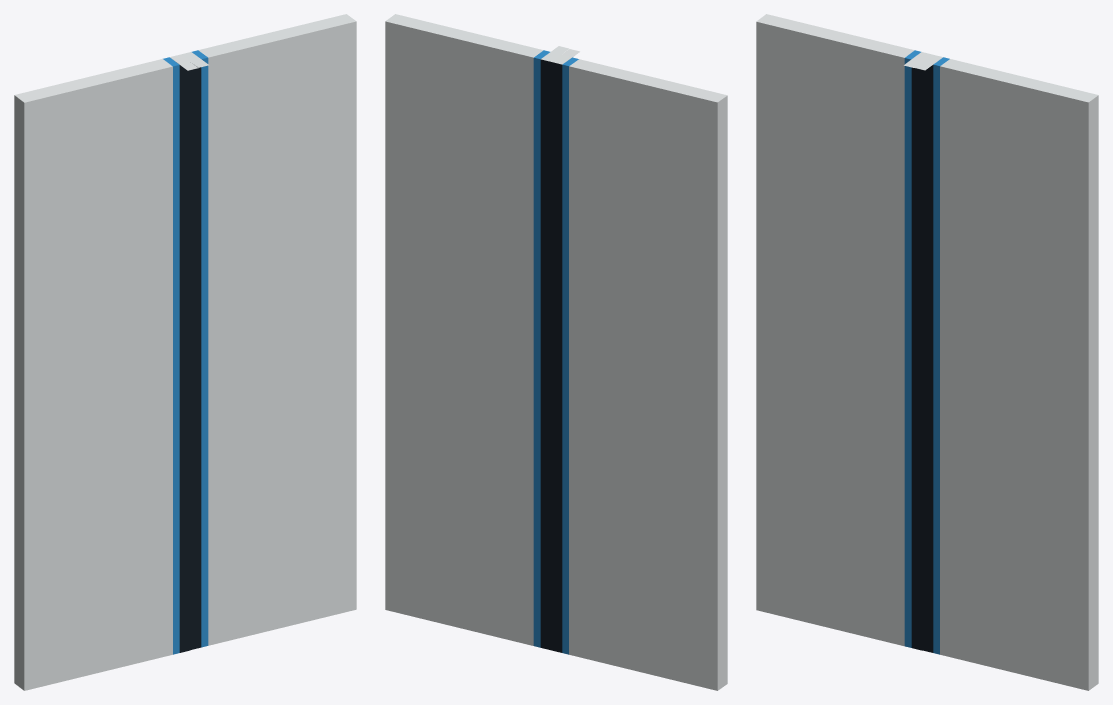
Rendered from Doors_001.fbx.
The picture shows the model from 3 angles, left to right: view 1: azimuth 30°, elevation 25°; view 2: azimuth 150°, elevation 25°; view 3: azimuth 330°, elevation 25°; orthographic projection.
Parts seen in each view (by area): view 1: Door_right_001, Door_left_001; view 2: Door_right_001, Door_left_001; view 3: Door_left_001, Door_right_001.
Part boxes in pixels (x1=…): Door_right_001: x1=14, y1=54, x2=198, y2=690; Door_left_001: x1=181, y1=14, x2=356, y2=649; Door_right_001: x1=551, y1=49, x2=727, y2=690; Door_left_001: x1=385, y1=14, x2=568, y2=650; Door_left_001: x1=914, y1=54, x2=1098, y2=690; Door_right_001: x1=756, y1=14, x2=932, y2=650.
Size of the model in its own units: 213 by 361 by 20.26.
